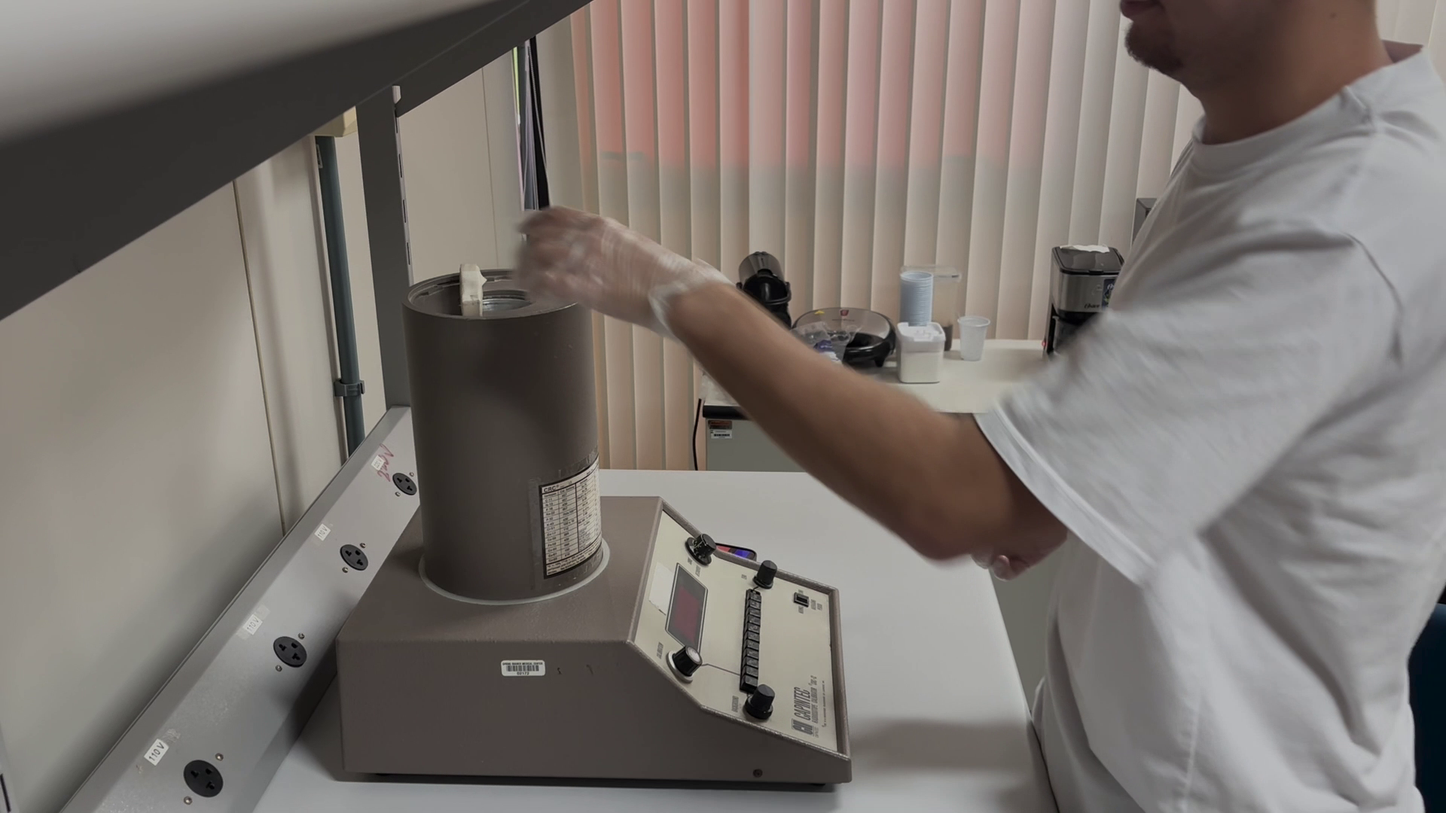Ativimetro: (398, 267, 609, 606)
Com_Luva: (515, 200, 741, 336)
